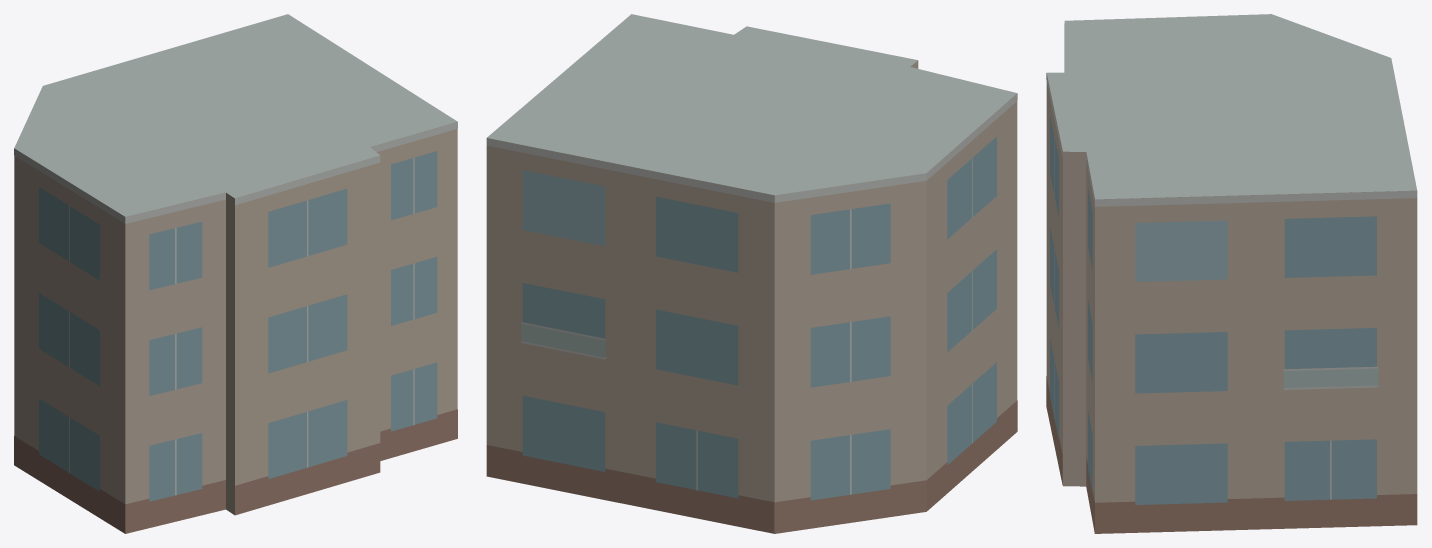
The model's file is survey-upis-32756514.glb.
3 renders of one model, left to right at view 1: azimuth 30°, elevation 25°; view 2: azimuth 150°, elevation 25°; view 3: azimuth 270°, elevation 25°, orthographic. The views are drawn at different scales.
Parts seen in each view (by area): view 1: survey-upis-32756514.tmp; view 2: survey-upis-32756514.tmp; view 3: survey-upis-32756514.tmp.
Boxes of the visible parts, bbox=[...] form: survey-upis-32756514.tmp: bbox=[14, 14, 457, 533]; survey-upis-32756514.tmp: bbox=[486, 14, 1017, 533]; survey-upis-32756514.tmp: bbox=[1046, 14, 1417, 533].
Bounding box in the file's own units: 12.96 × 10.9 × 10.96.
